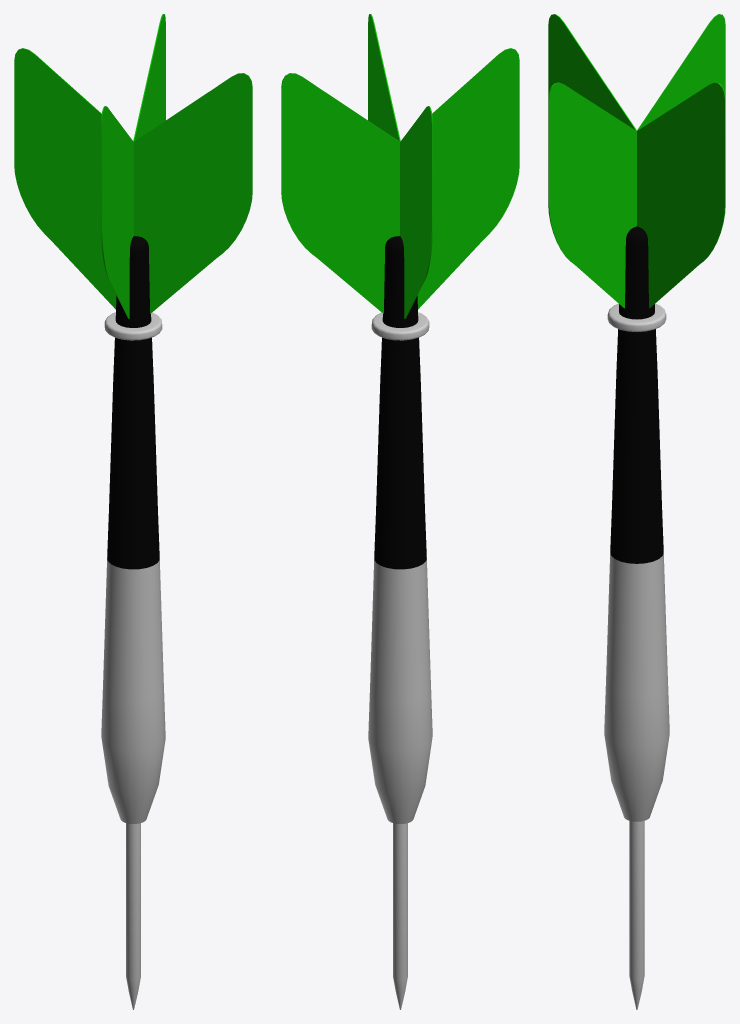
Rendered from green_dart.obj.
3 views of the same model, side by side, from view 1: azimuth 30°, elevation 25°; view 2: azimuth 150°, elevation 25°; view 3: azimuth 270°, elevation 25° (orthographic).
Parts seen in each view (by area): view 1: green_dart; view 2: green_dart; view 3: green_dart.
Part boxes in pixels (x1=…): green_dart: x1=14, y1=14, x2=252, y2=1009; green_dart: x1=281, y1=14, x2=519, y2=1009; green_dart: x1=548, y1=14, x2=725, y2=1009.
Size of the model in its own units: 0.0261 by 0.1561 by 0.0261.
